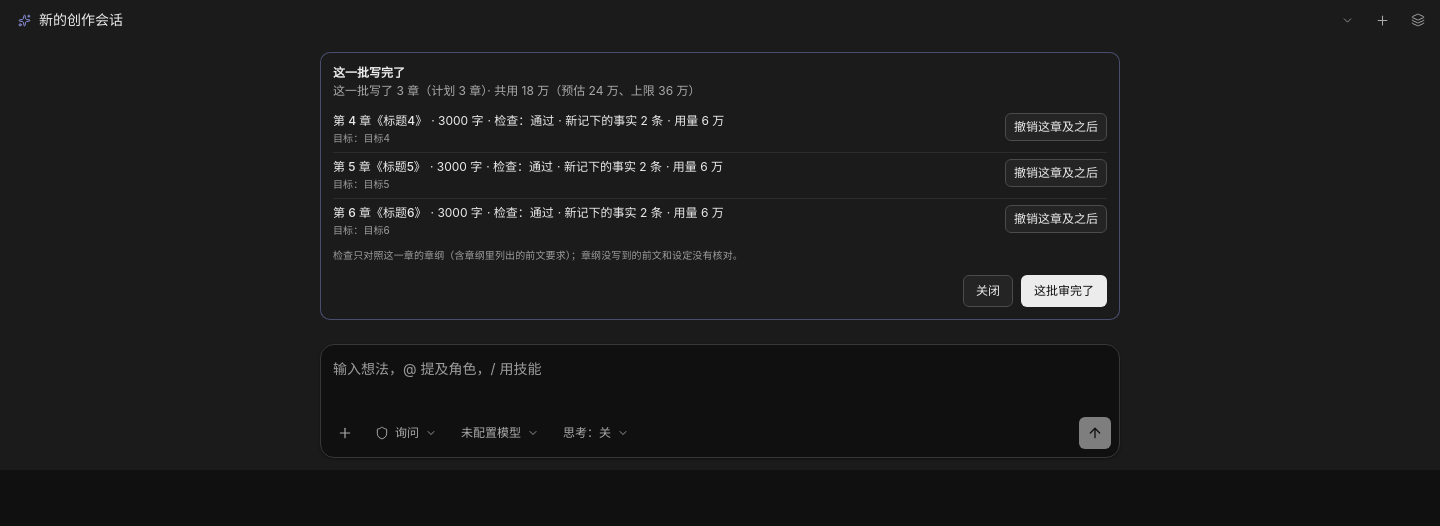
Scenario: 确认后：照引擎的顺序倒着删、每章删前再核、计划里退回未写、页签摘掉；台账回到第 k 章记账前，记一笔、刷新清单
The width and height of the screenshot is (1440, 526).
Click the button "撤销这章及之后" in the row of "目标4".
click(1056, 127)  # box [1005,113,1107,141]
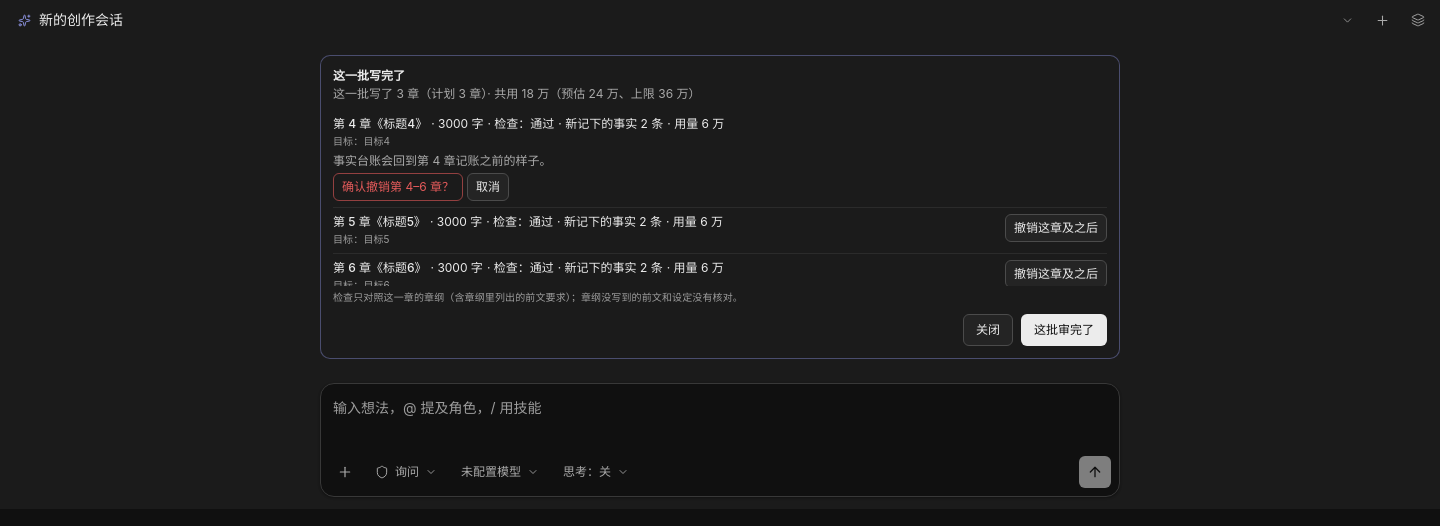
Click the button "确认撤销第 4–6 章？".
click(398, 187)  # box [333,173,463,201]
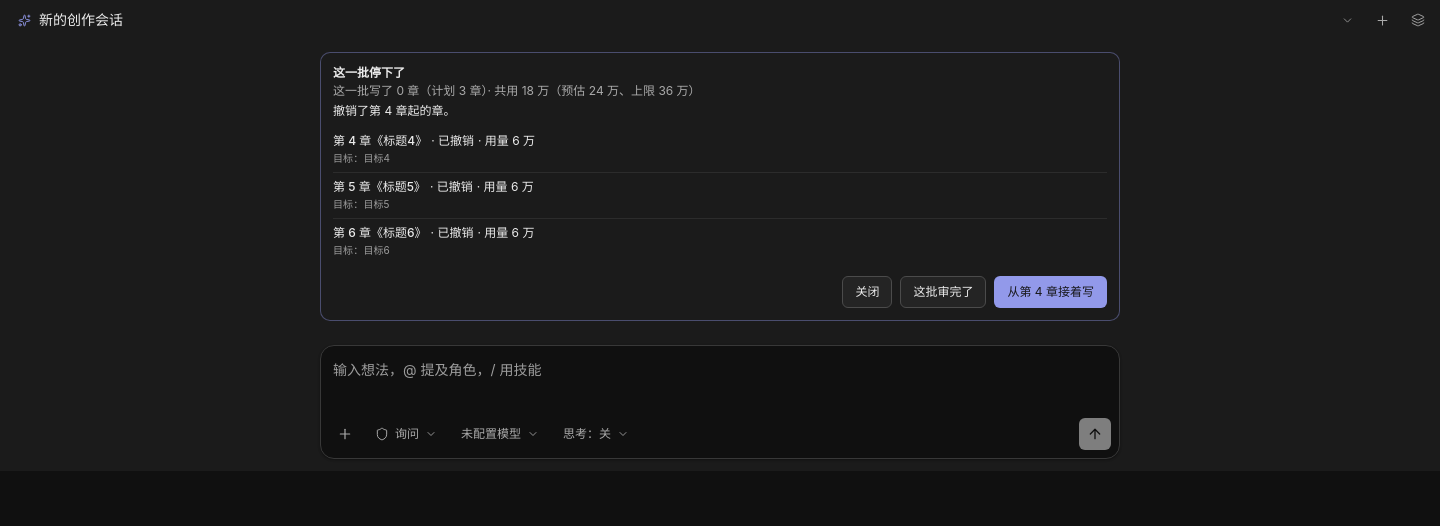
Expected: the text "撤销了第 4 章起的章。" is shown, [333,103,456,118]
Expected: the button "从第 4 章接着写" is shown, [1008,284,1094,300]
